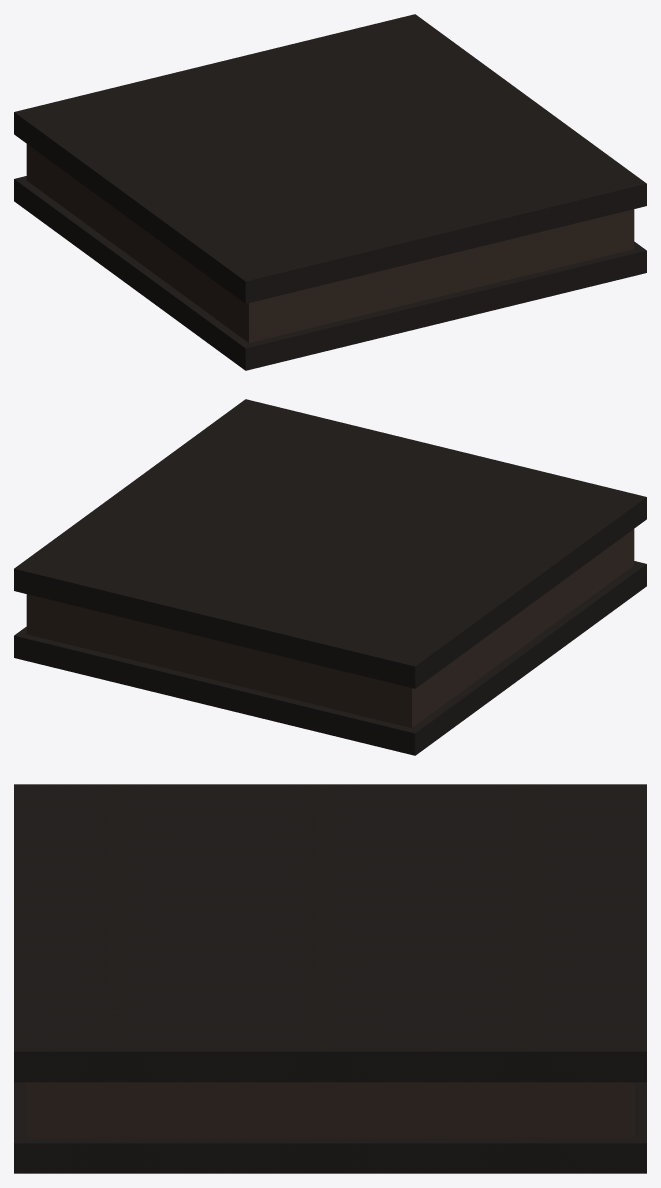
Rendered from modularBuildings_003.obj.
3 renders of one model, top to bottom at view 1: azimuth 30°, elevation 25°; view 2: azimuth 150°, elevation 25°; view 3: azimuth 270°, elevation 25°, orthographic. The views are drawn at different scales.
Visible parts, largest first — view 1: Mesh1 Group1 Model; view 2: Mesh1 Group1 Model; view 3: Mesh1 Group1 Model.
Boxes of the visible parts, box(x1,y1,x2,y2) form: Mesh1 Group1 Model: box(14, 14, 646, 370); Mesh1 Group1 Model: box(14, 399, 646, 755); Mesh1 Group1 Model: box(14, 784, 646, 1173).
Size of the model in its own units: 1 by 0.2125 by 1.
3 materials, 3 textured.
